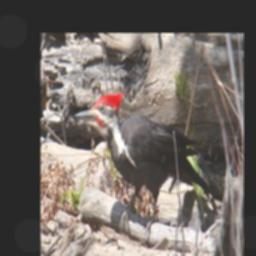Woodpecker: (72, 89, 223, 242)
